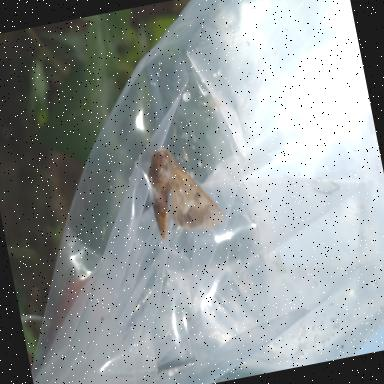abw: (141, 138, 228, 243)
